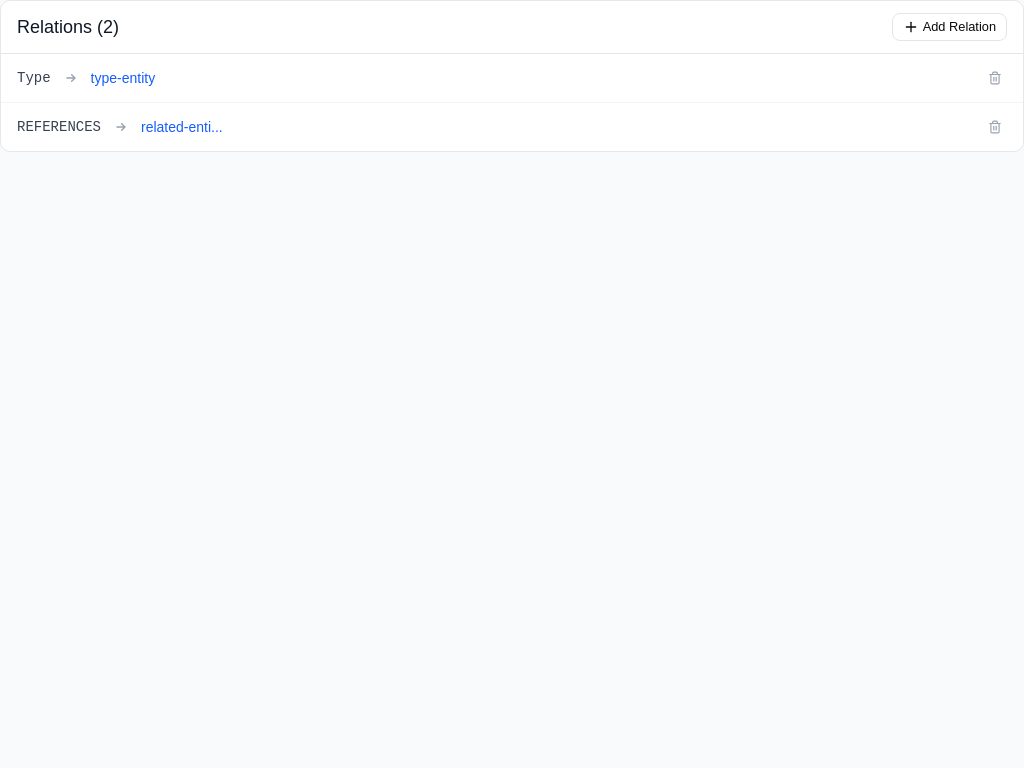
Test case: RelationsPanel › Remove Relation › closes dialog after successful removal
The width and height of the screenshot is (1024, 768).
Step 1. Click the button with test id "remove-relation-button-0" → [995, 78], box [983,66,1007,90]
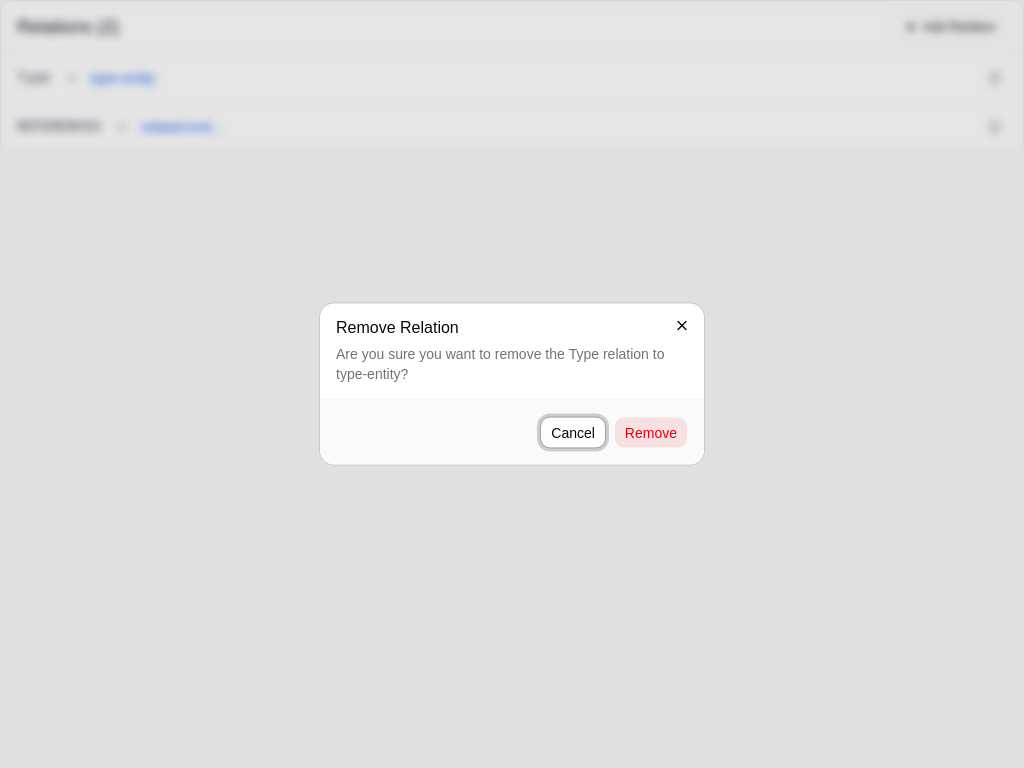
Step 2. Click the button "Remove" → [651, 432], box [614,416,688,448]
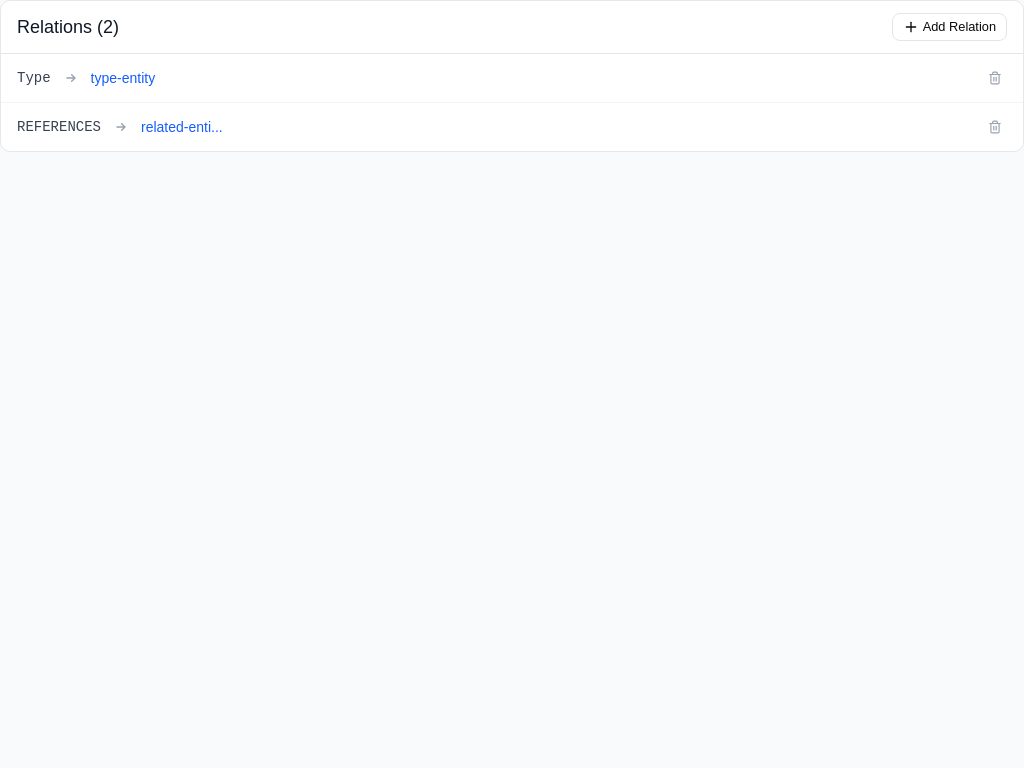
Result: the dialog is gone
